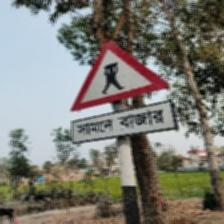Market-in-front: (68, 39, 178, 145)
